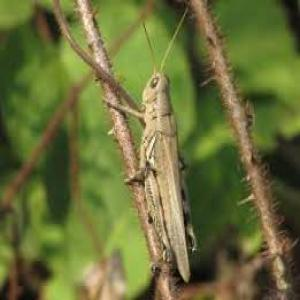locust: (123, 18, 207, 300)
